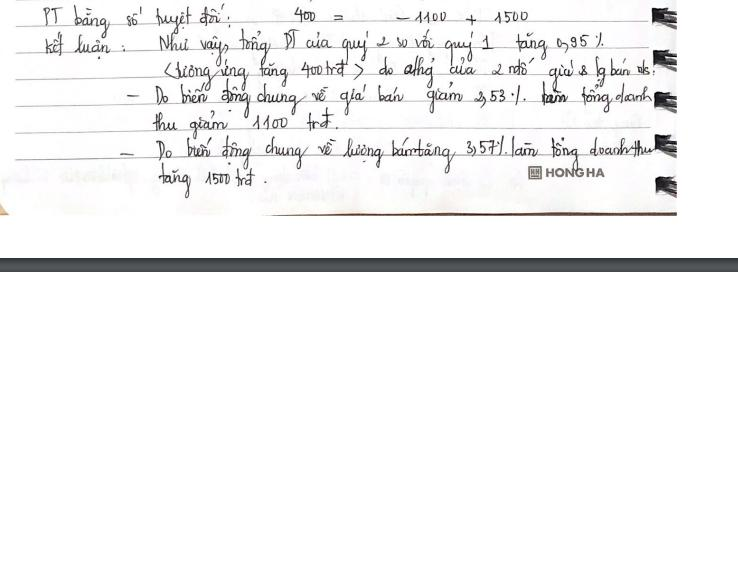text: (118, 133, 659, 177), (123, 77, 655, 118), (162, 53, 657, 93), (157, 27, 607, 67), (42, 0, 232, 40), (149, 106, 339, 140), (155, 161, 257, 201), (43, 30, 127, 62), (394, 9, 531, 26), (289, 3, 347, 25), (545, 165, 607, 180)
